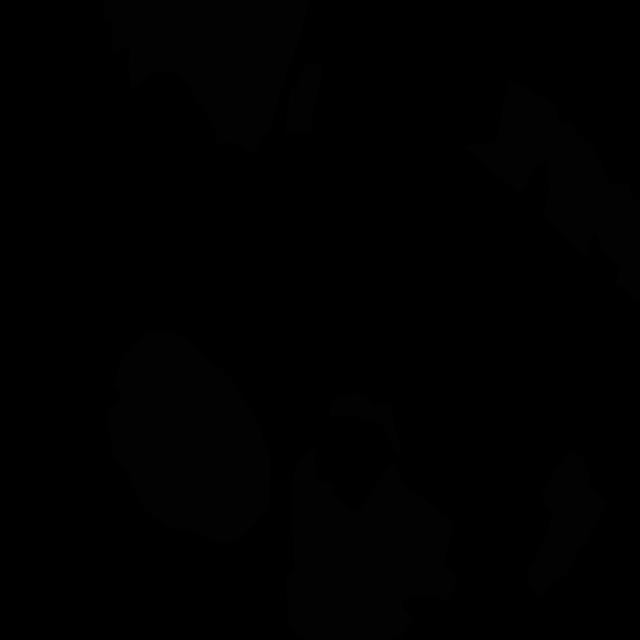cardboard: (464, 82, 640, 302), (106, 331, 271, 543), (286, 449, 458, 640), (103, 0, 310, 156), (527, 450, 606, 598), (329, 392, 401, 455), (285, 61, 323, 134)
